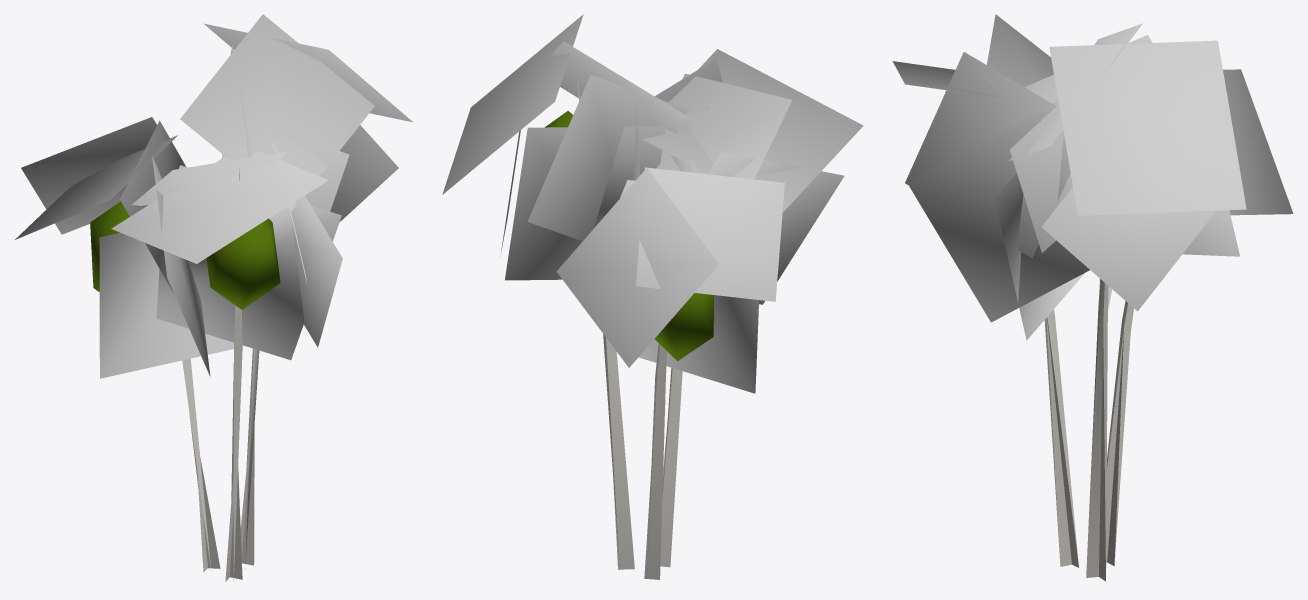
File: foliage.birch_trio.gltf
3 renders of one model, left to right at view 1: azimuth 30°, elevation 25°; view 2: azimuth 150°, elevation 25°; view 3: azimuth 270°, elevation 25°, orthographic. The views are drawn at different scales.
Parts seen in each view (by area): view 1: lod, lod.001, lod.003; view 2: lod, lod.001, lod.003; view 3: lod, lod.001.
Part boxes in pixels (<box>): lod: <box>15,14,412,378</box>; lod.001: <box>182,168,259,581</box>; lod.003: <box>90,201,280,309</box>; lod: <box>442,14,863,393</box>; lod.001: <box>577,82,707,579</box>; lod.003: <box>545,111,713,361</box>; lod: <box>892,14,1293,340</box>; lod.001: <box>1013,77,1133,581</box>.
Size of the model in its own units: 5.98 by 8.63 by 5.41.
